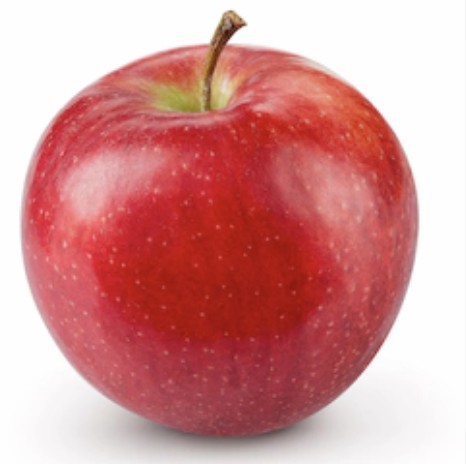fresh_apple: (18, 40, 421, 441)
